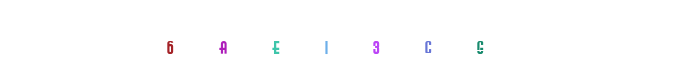3: (307, 0, 387, 80)
6: (129, 0, 209, 80)
A: (249, 0, 329, 80)
C: (357, 0, 437, 80)
E: (290, 0, 370, 80)
G: (440, 0, 520, 80)
I: (297, 0, 377, 80)
